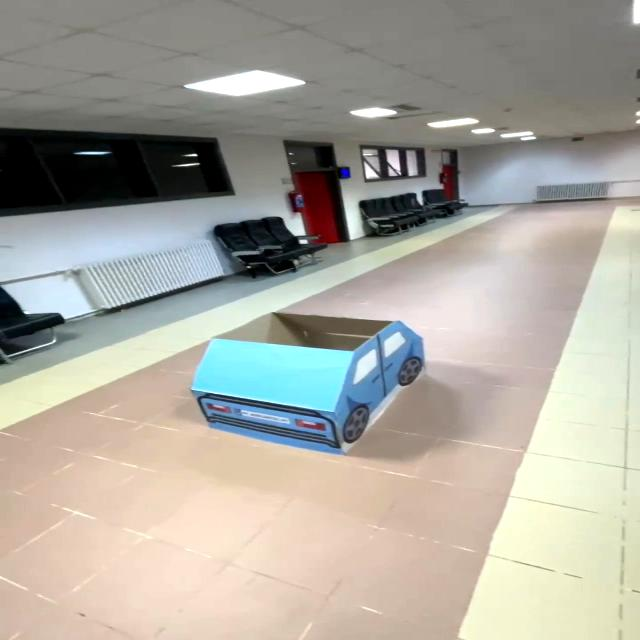blue_car: (157, 302, 436, 461)
